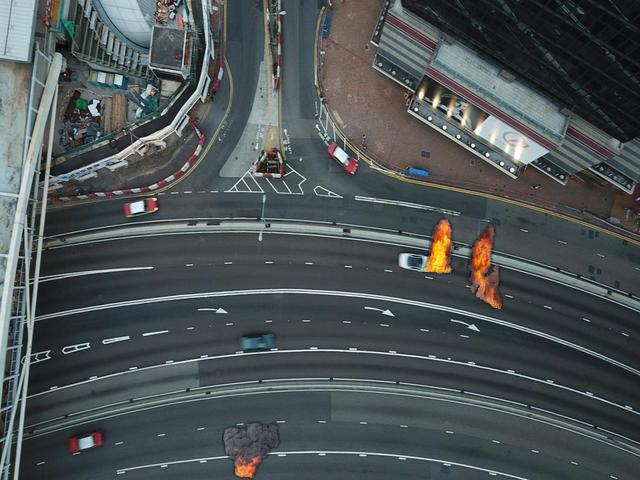fire: (424, 216, 502, 308), (223, 422, 278, 478)
